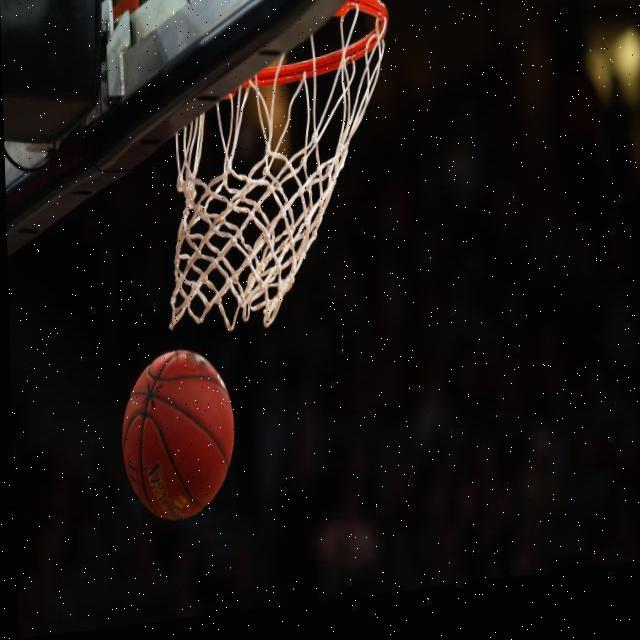Basketball: (122, 346, 234, 524)
